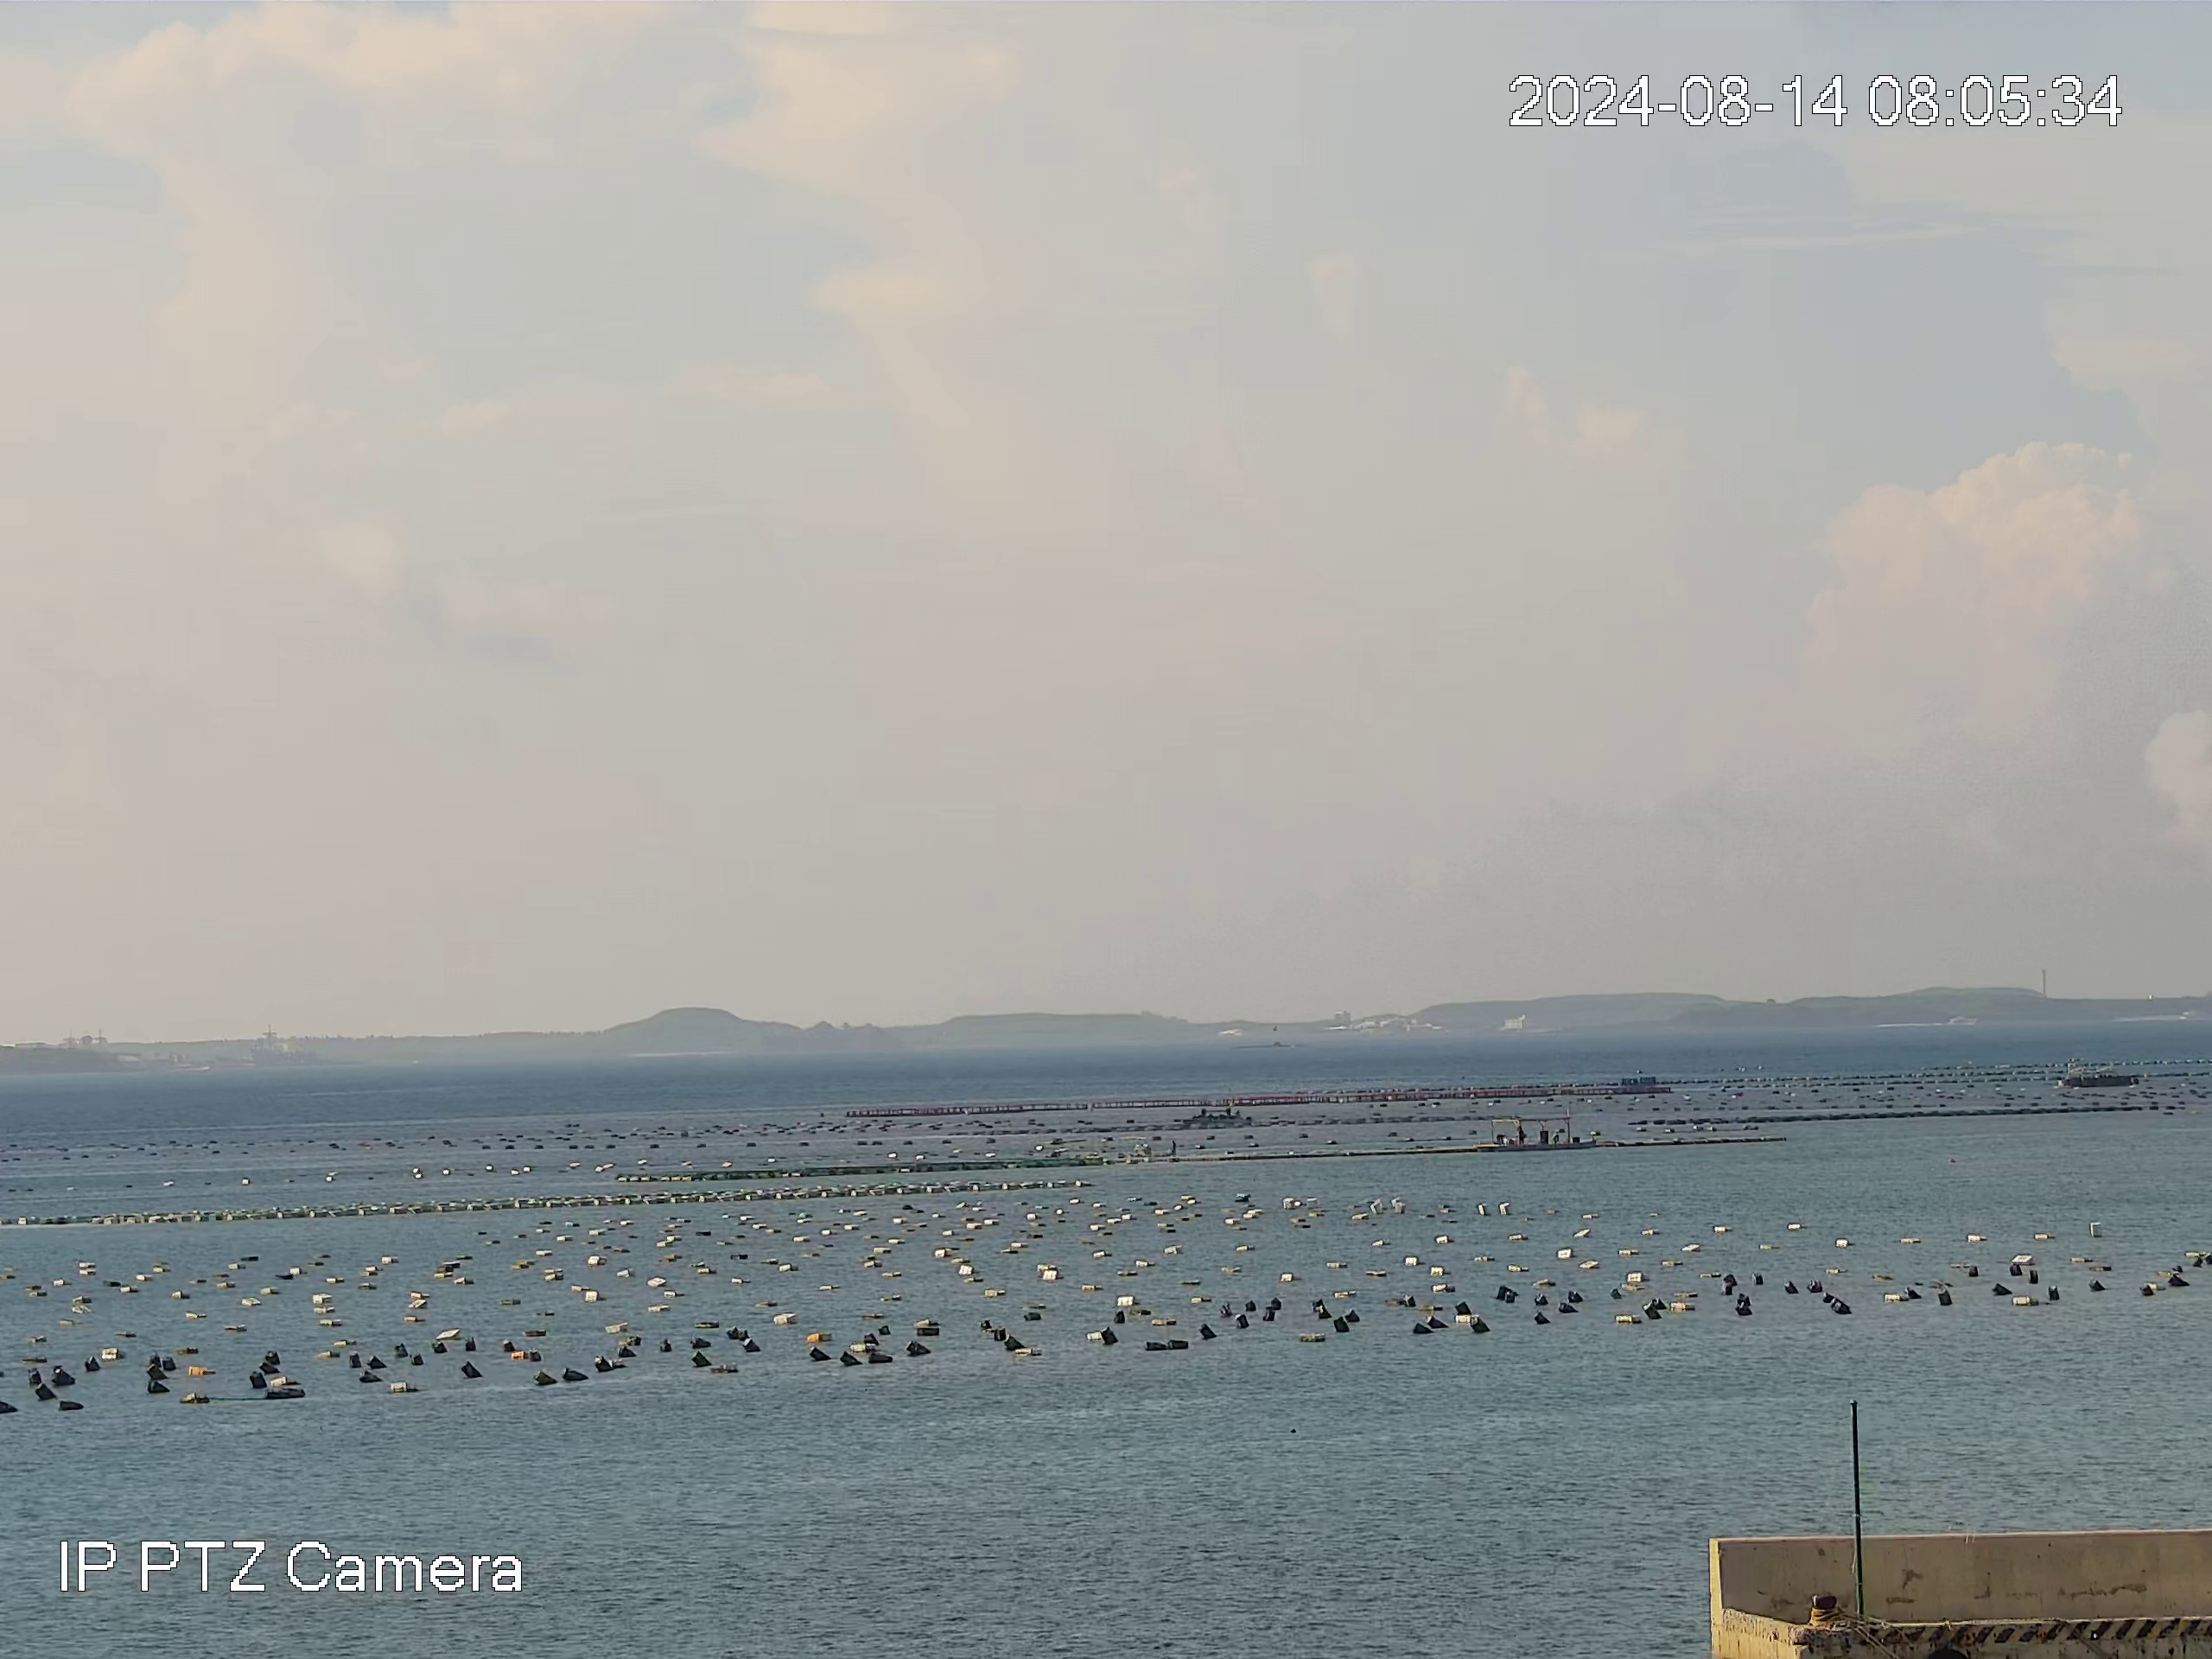boat: (1475, 1117, 1595, 1150), (2059, 1063, 2137, 1089)
